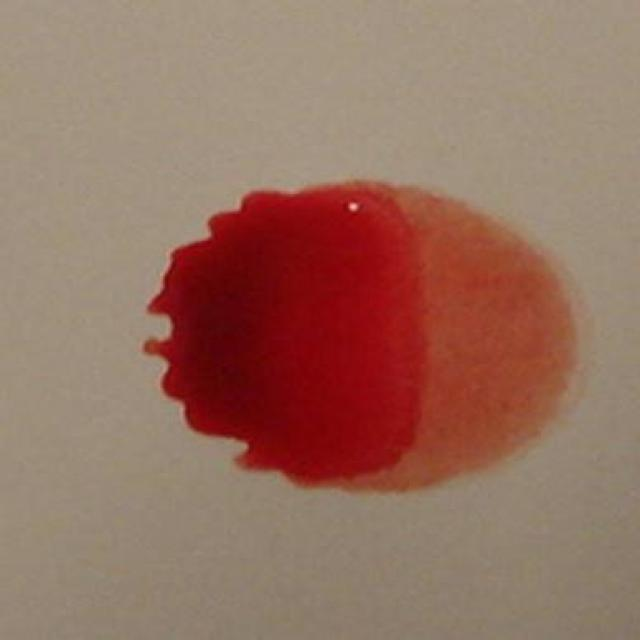flood: (138, 188, 587, 497)
